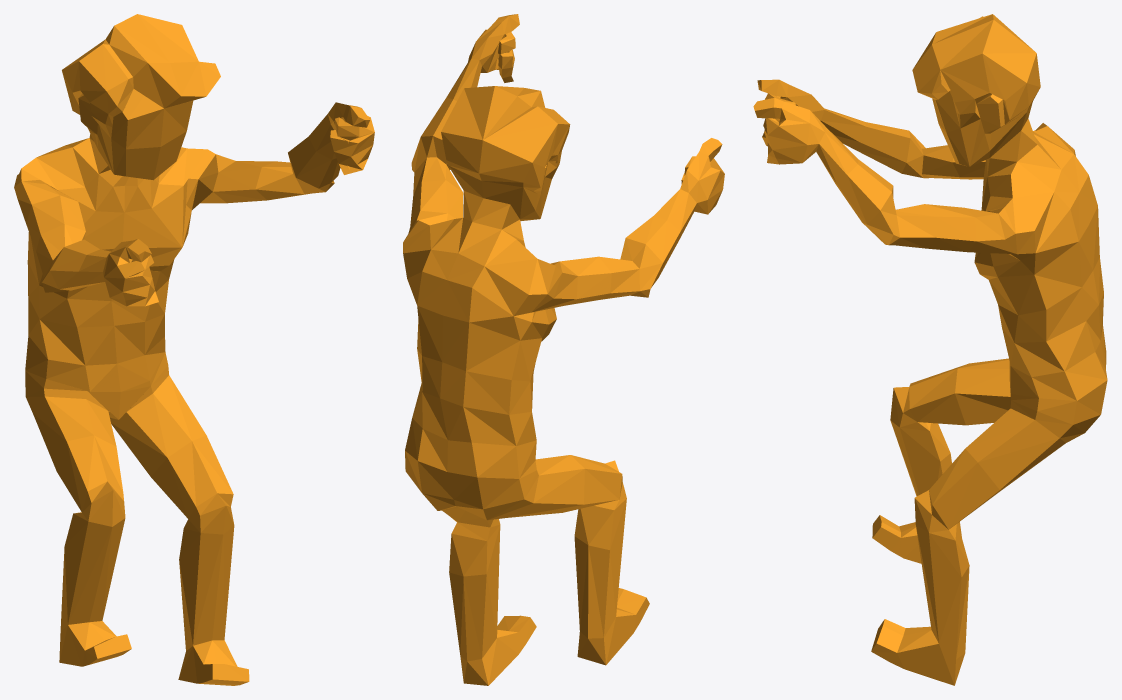
The model's file is SM_Pawn_LadderClimb_Male_01.fbx.
3 renders of one model, left to right at view 1: azimuth 30°, elevation 25°; view 2: azimuth 150°, elevation 25°; view 3: azimuth 270°, elevation 25°, orthographic. The views are drawn at different scales.
Parts seen in each view (by area): view 1: SM_Pawn_LadderClimb_Male_01; view 2: SM_Pawn_LadderClimb_Male_01; view 3: SM_Pawn_LadderClimb_Male_01.
Boxes of the visible parts, left/top/right/bottom form: SM_Pawn_LadderClimb_Male_01: left=14, top=14, right=374, bottom=685; SM_Pawn_LadderClimb_Male_01: left=403, top=14, right=724, bottom=685; SM_Pawn_LadderClimb_Male_01: left=753, top=14, right=1107, bottom=685.
Size of the model in its own units: 74.51 by 171 by 85.85.
